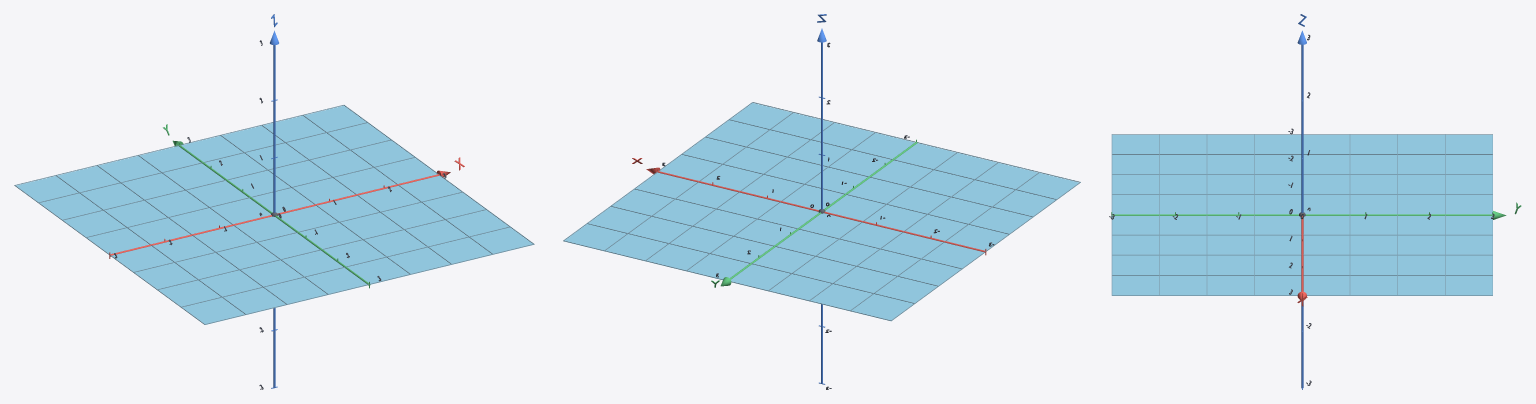
Rendered from 5points_onlyaxis.glb.
3 renders of one model, left to right at view 1: azimuth 30°, elevation 25°; view 2: azimuth 150°, elevation 25°; view 3: azimuth 270°, elevation 25°, orthographic.
Parts seen in each view (by area): view 1: Observation_Plane, Grid, Axis_X, Axis_Z, Axis_Y; view 2: Observation_Plane, Grid, Axis_X, Axis_Y, Axis_Z; view 3: Observation_Plane, Grid, Axis_Z, Axis_Y.
Boxes of the visible parts, bbox=[...] form: Observation_Plane: bbox=[16, 105, 533, 324]; Grid: bbox=[14, 105, 534, 324]; Axis_X: bbox=[110, 174, 439, 256]; Axis_Z: bbox=[273, 45, 275, 387]; Axis_Y: bbox=[178, 145, 370, 285]; Observation_Plane: bbox=[564, 103, 1078, 321]; Grid: bbox=[563, 102, 1080, 320]; Axis_X: bbox=[658, 171, 985, 252]; Axis_Y: bbox=[730, 142, 917, 279]; Axis_Z: bbox=[821, 42, 822, 383]; Observation_Plane: bbox=[1112, 135, 1492, 295]; Grid: bbox=[1111, 134, 1492, 295]; Axis_Z: bbox=[1301, 44, 1303, 388]; Axis_Y: bbox=[1112, 214, 1492, 215].
Size of the model in its own units: 6.51 by 6.5 by 6.5.
